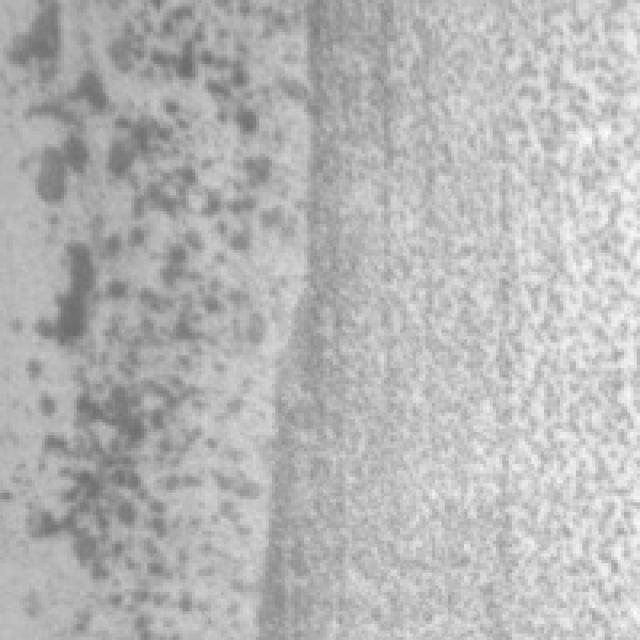pitted_surface: (307, 0, 634, 637), (22, 0, 288, 570)
